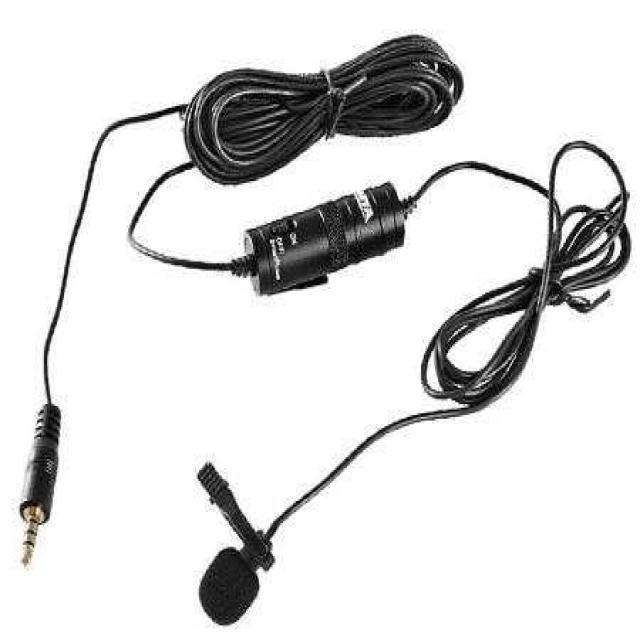microphone: (198, 547, 260, 625)
